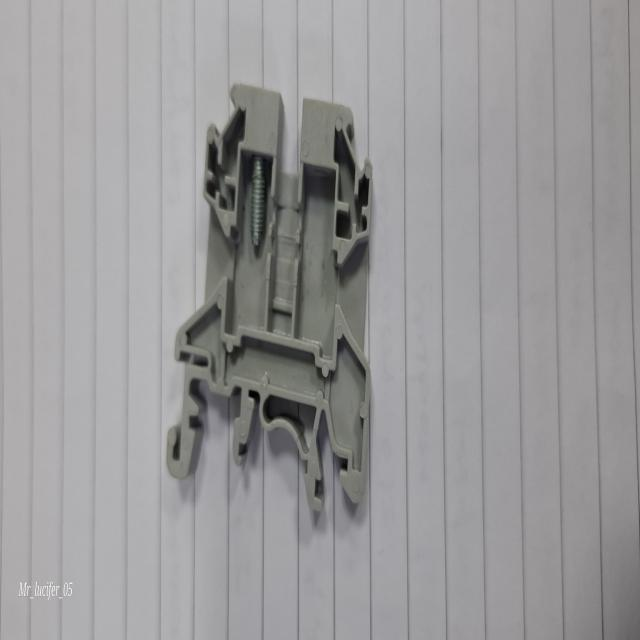Reject: (164, 76, 378, 521)
